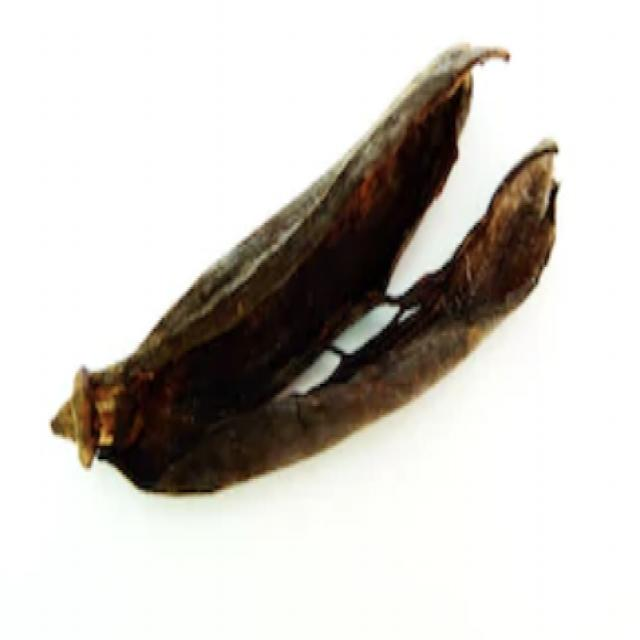rotten-banana: (76, 25, 562, 489)
